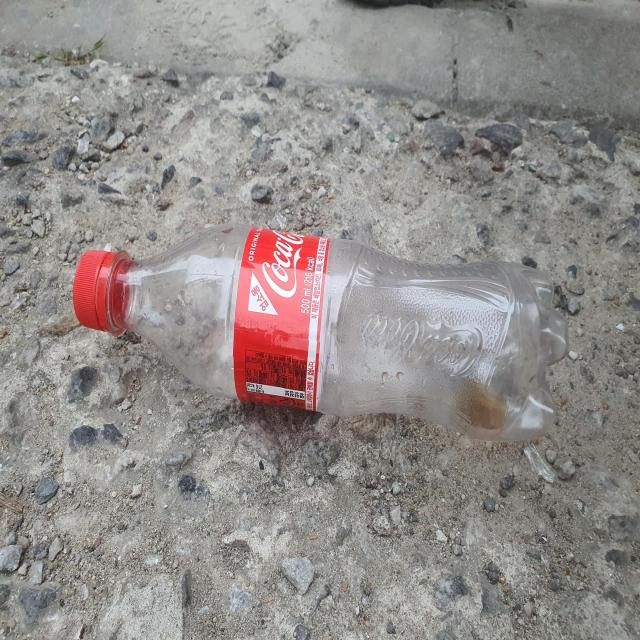plastic: (72, 224, 569, 441)
